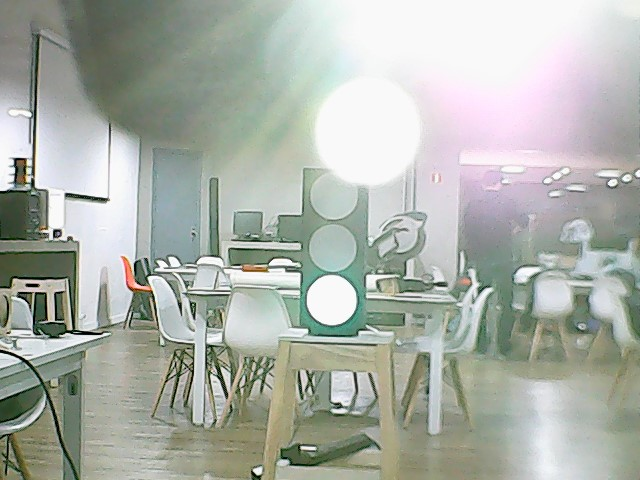verde: (300, 164, 367, 341)
